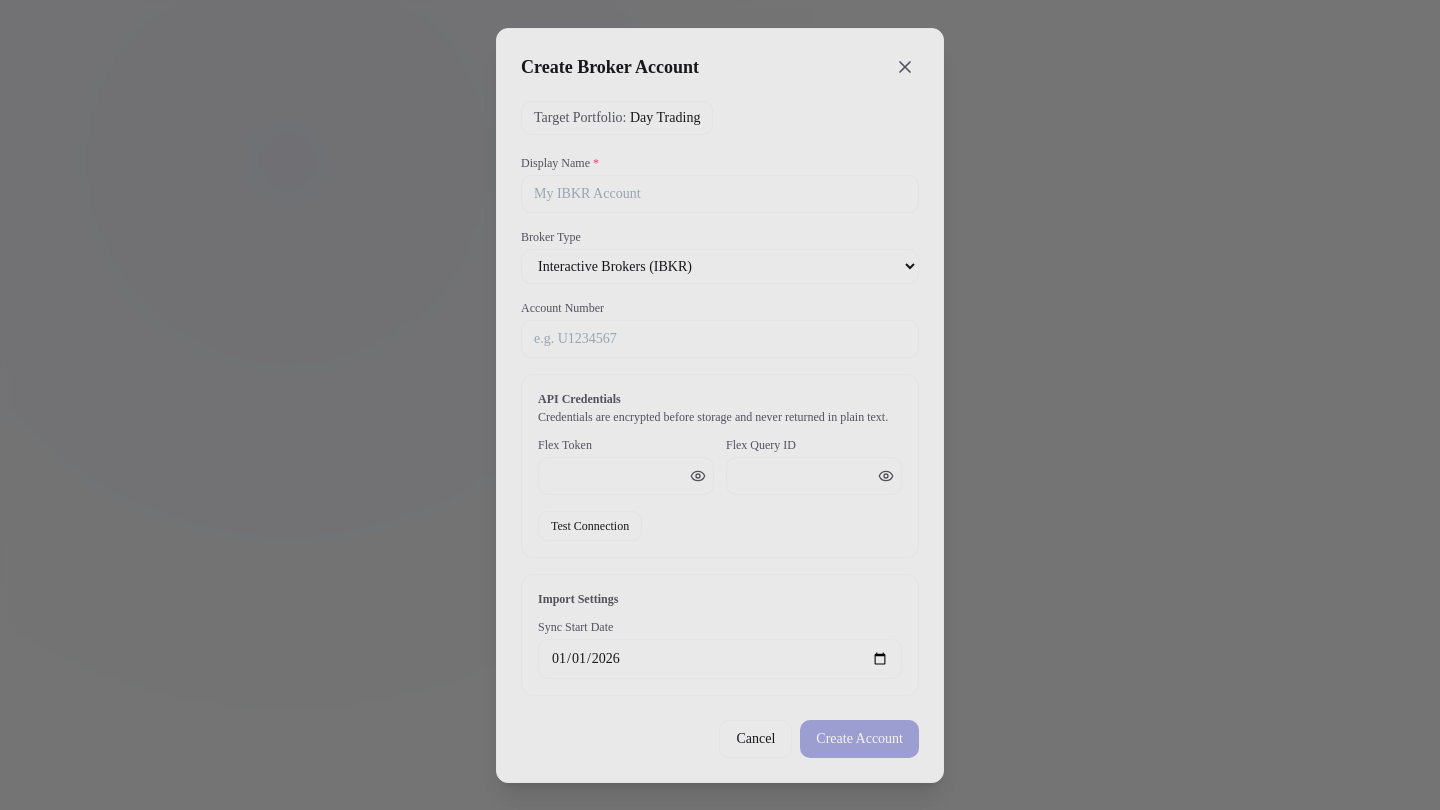
Test: BrokerAccountCreateModal › submit button enabled when name is filled
Type "My Account" into the field with test id "account-name-input" at point(720, 194), box [521,174,919,212]
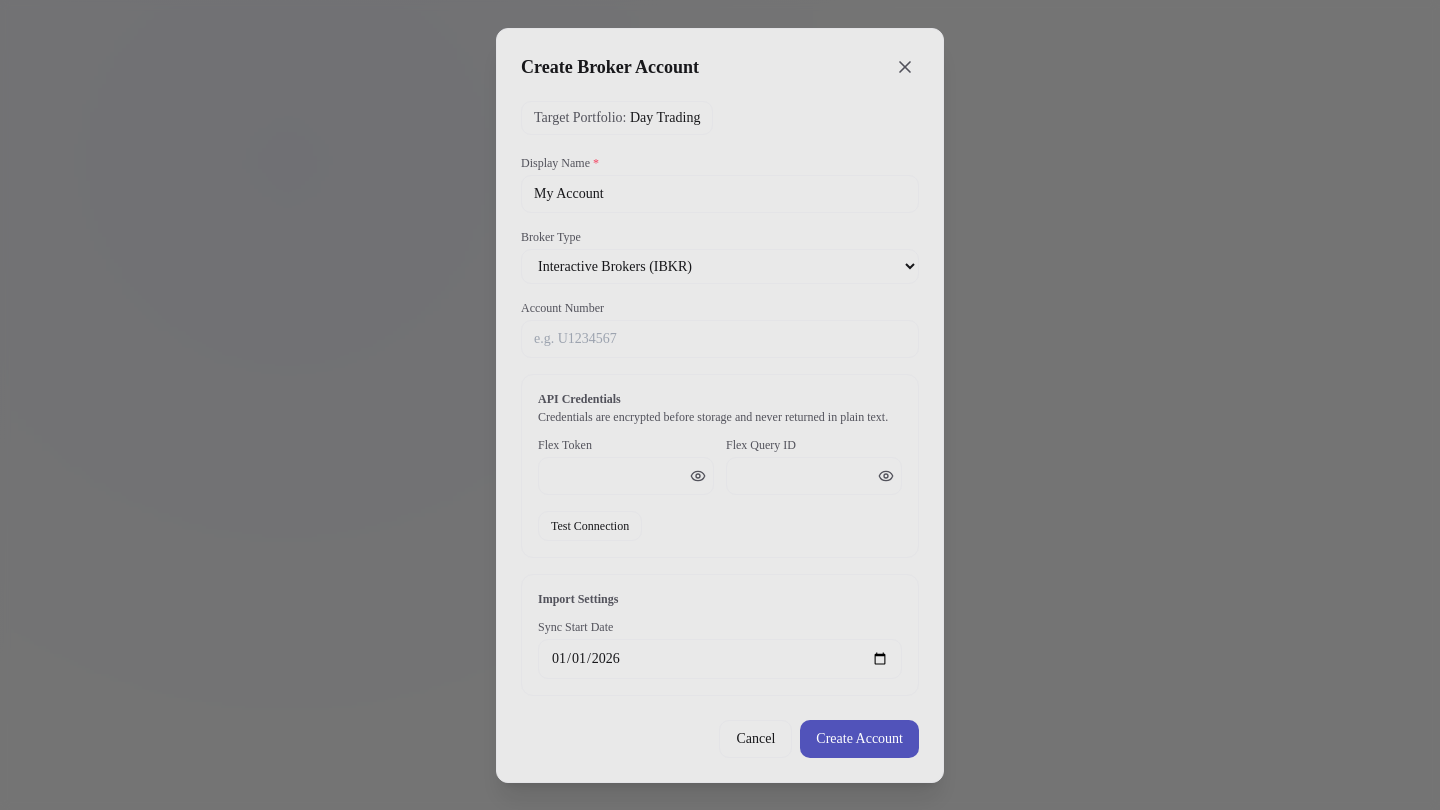
expect the button with test id "submit-create-account" is enabled: met, box [800,720,919,758]
